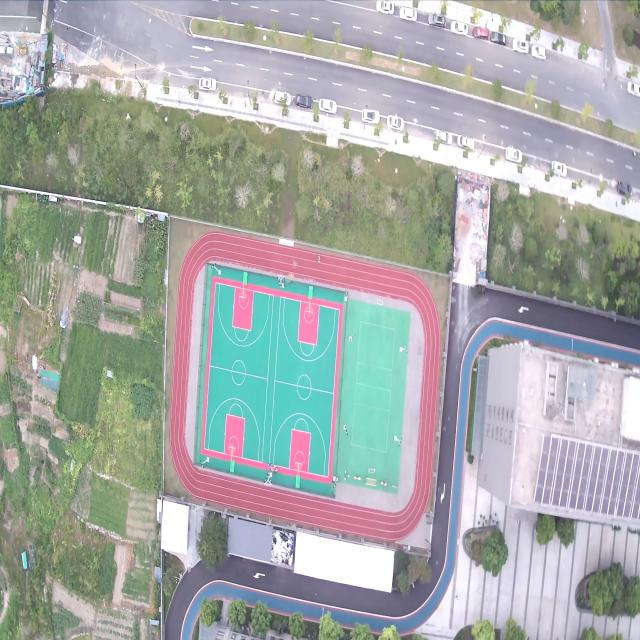UAV: (291, 258, 298, 270)
